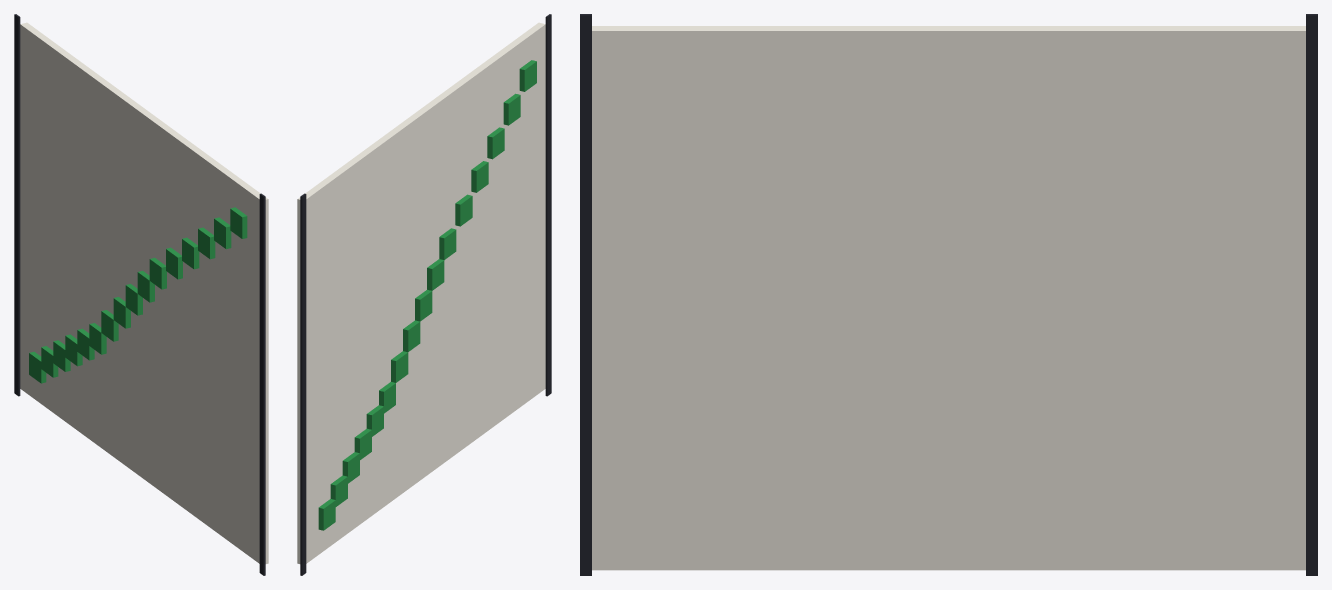
File: fx_chart_up2.glb
The picture shows the model from 3 angles, left to right: view 1: azimuth 30°, elevation 25°; view 2: azimuth 150°, elevation 25°; view 3: azimuth 270°, elevation 25°; orthographic projection. The views are drawn at different scales.
Parts seen in each view (by area): view 1: fx_chart_up2; view 2: fx_chart_up2; view 3: fx_chart_up2.
Part boxes in pixels (x1,y1,x2,y2): fx_chart_up2: (14, 14, 268, 575); fx_chart_up2: (297, 14, 551, 575); fx_chart_up2: (580, 14, 1317, 575).
Bounding box in the file's own units: 0.0175 × 0.52 × 0.62.
1 material, 1 textured.
